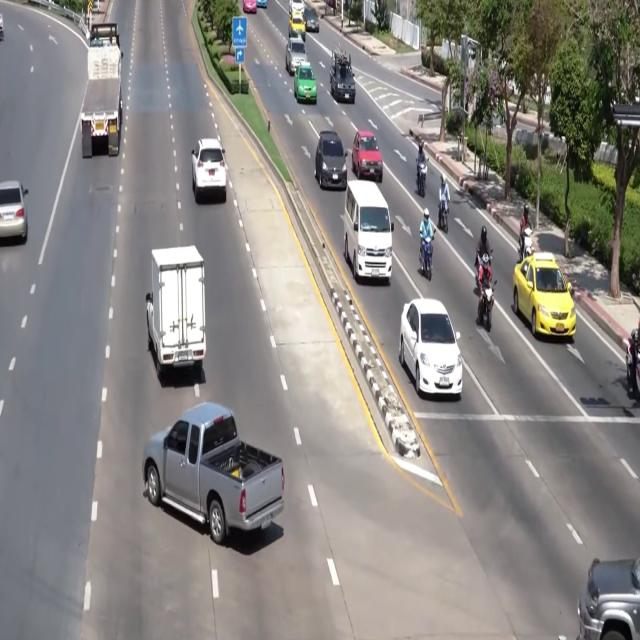car: (399, 298, 462, 399), (513, 252, 576, 337), (192, 138, 226, 203), (315, 130, 347, 190), (0, 181, 28, 243), (352, 130, 382, 182), (294, 63, 317, 103), (285, 37, 307, 75), (288, 12, 306, 40), (303, 7, 319, 32), (289, 0, 304, 15), (243, 0, 257, 13), (0, 14, 3, 39), (257, 0, 267, 7)
scooty: (625, 330, 639, 395), (479, 281, 496, 332), (420, 236, 432, 280), (519, 227, 532, 262), (417, 162, 427, 197), (438, 202, 448, 233)
truck: (142, 402, 284, 544), (146, 246, 205, 379), (80, 24, 123, 158), (577, 559, 639, 639), (330, 48, 355, 103)
